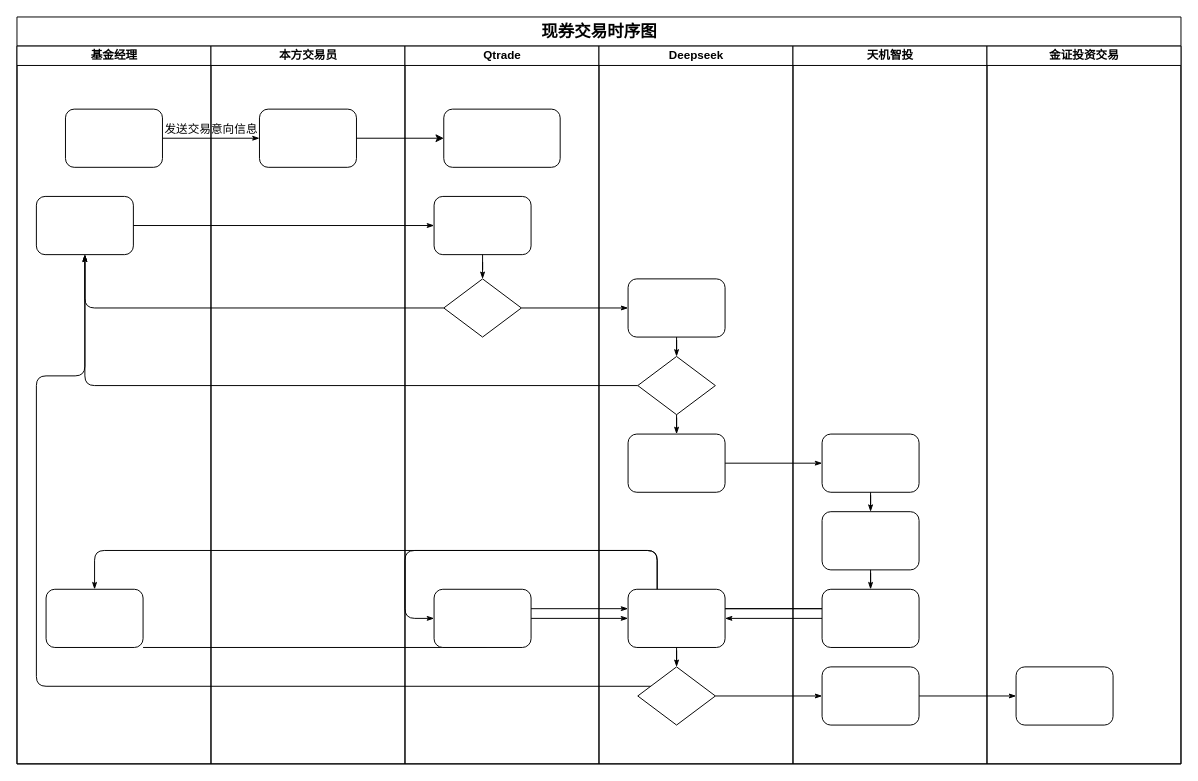
Some shapes in this 1198 by 781 pixel diagram are drawn without their labels. The shapes that lost their labels are listed below. From the top down, each one's centre as x and y in pixels, then its label:
At (113,137): "发现交易机会".
At (307,137): "接收基金经理的交易意向指令".
